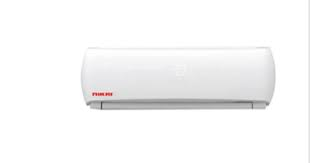ac: (79, 44, 280, 116)
